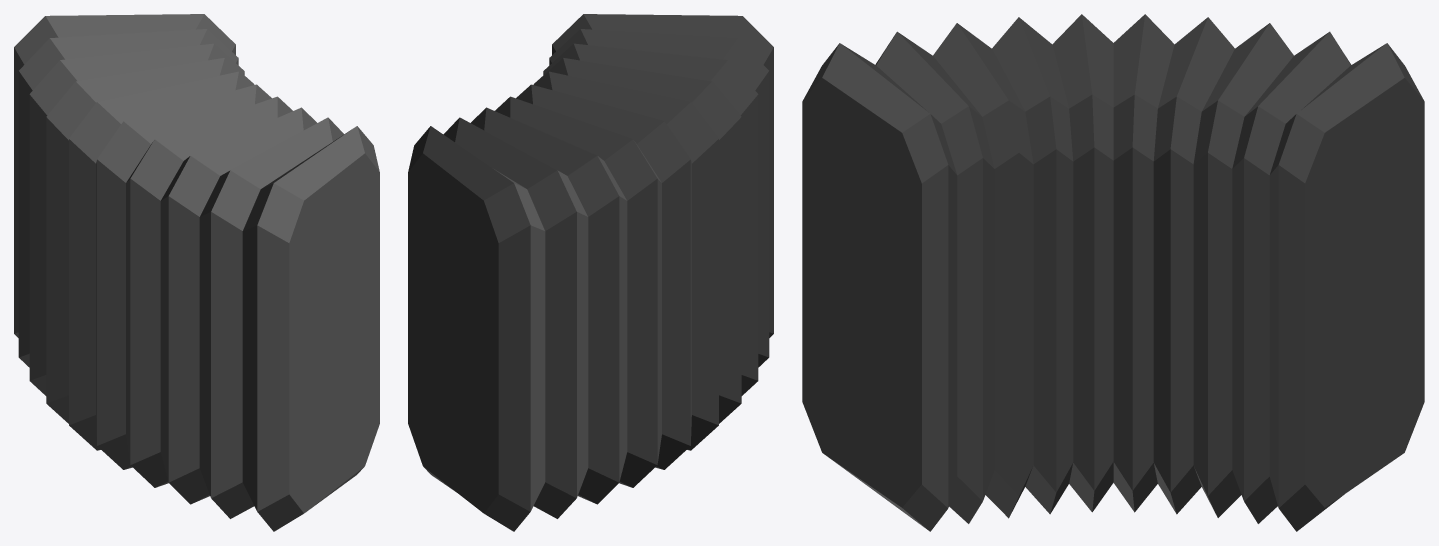
File: passageway_004.fbx
3 views of the same model, side by side, from view 1: azimuth 30°, elevation 25°; view 2: azimuth 150°, elevation 25°; view 3: azimuth 270°, elevation 25° (orthographic). The views are drawn at different scales.
Visible parts, largest first — view 1: passageway_004; view 2: passageway_004; view 3: passageway_004.
Part boxes in pixels (left/top/right/bottom): passageway_004: left=14, top=14, right=379, bottom=531; passageway_004: left=408, top=14, right=773, bottom=531; passageway_004: left=802, top=14, right=1424, bottom=531.
Size of the model in its own units: 199 by 403 by 299.
